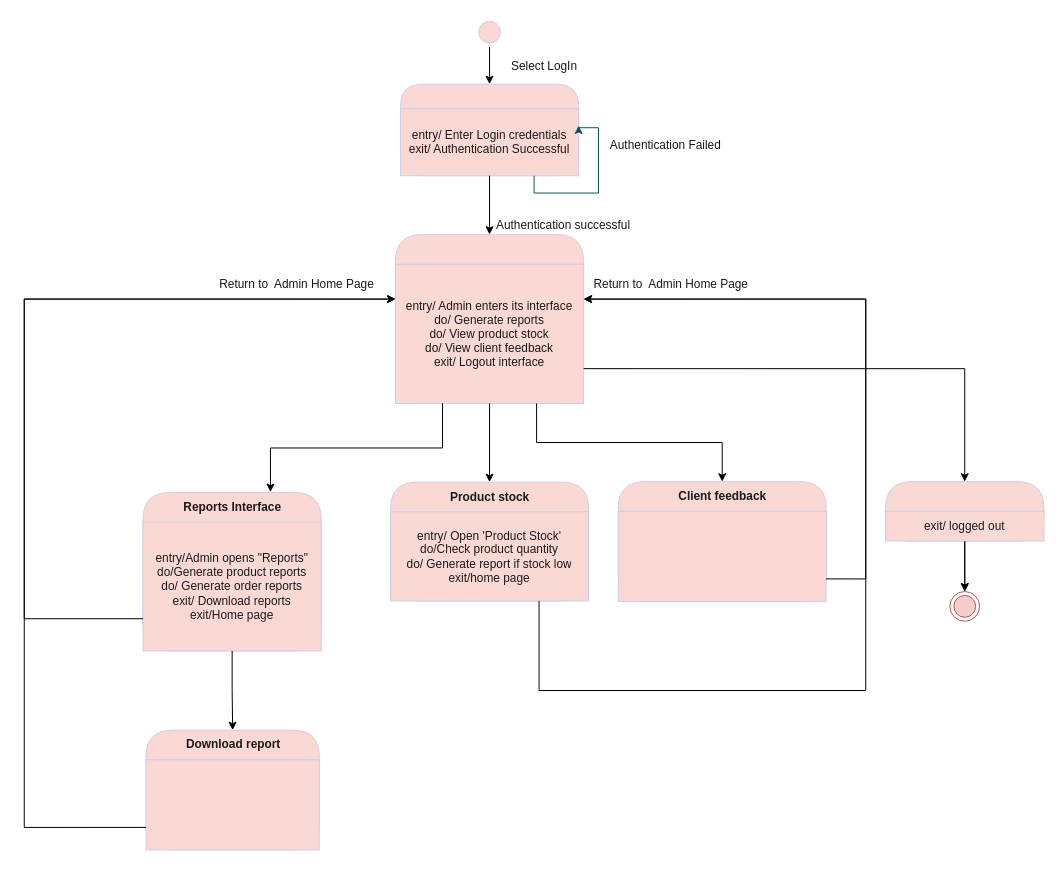
Image size: 1061x875. Some labels were removed from this diagram. Here are the shapes that lost their labels. From the top down, the box of each, then its label:
(399, 83, 579, 176): Access the WebApp
(395, 234, 584, 403): Admin UI
(885, 481, 1044, 541): Logout
(617, 510, 826, 601): entry/Open client feedback button do/ Check product feedback exit/ home page
(145, 759, 319, 850): entry/Download report button do/ Select report to download exit/ home page
